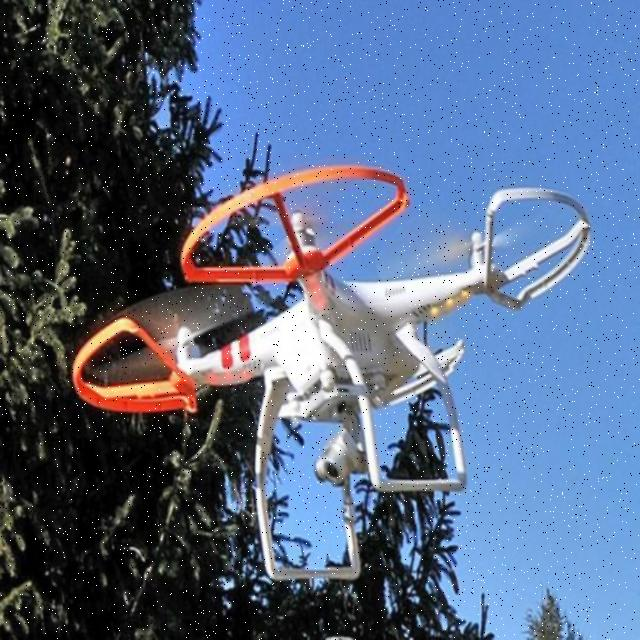UAV: (167, 207, 502, 584)
